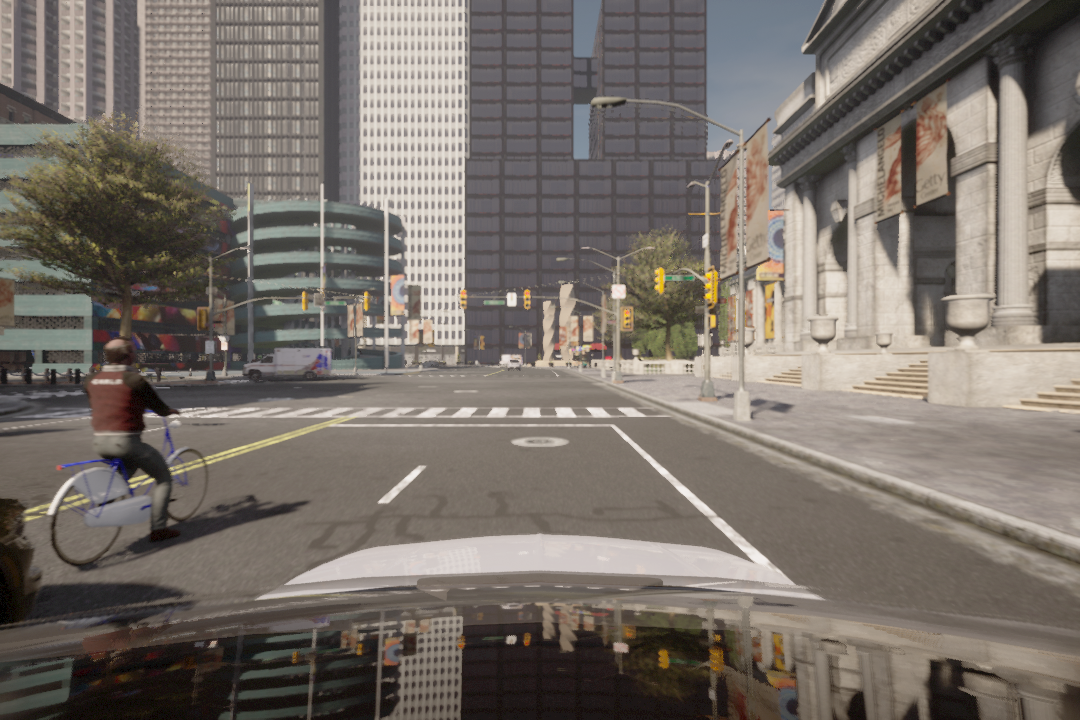TrafficLight: (701, 268, 719, 304), (652, 267, 664, 293), (520, 285, 533, 308), (460, 291, 471, 311), (622, 307, 631, 329)
walkside: (18, 404, 674, 424)
